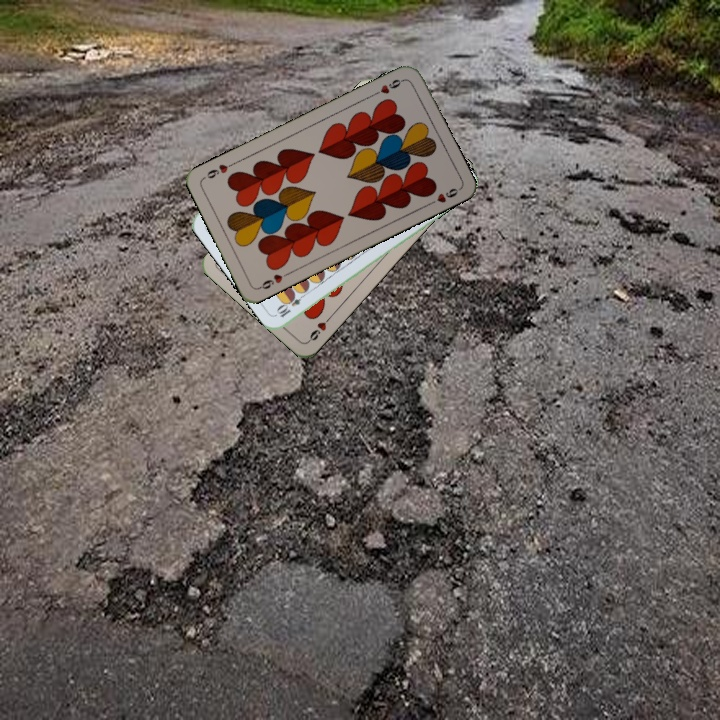E10: (273, 288, 309, 320)
H9: (304, 311, 335, 344), (254, 268, 292, 292), (369, 75, 407, 98)
